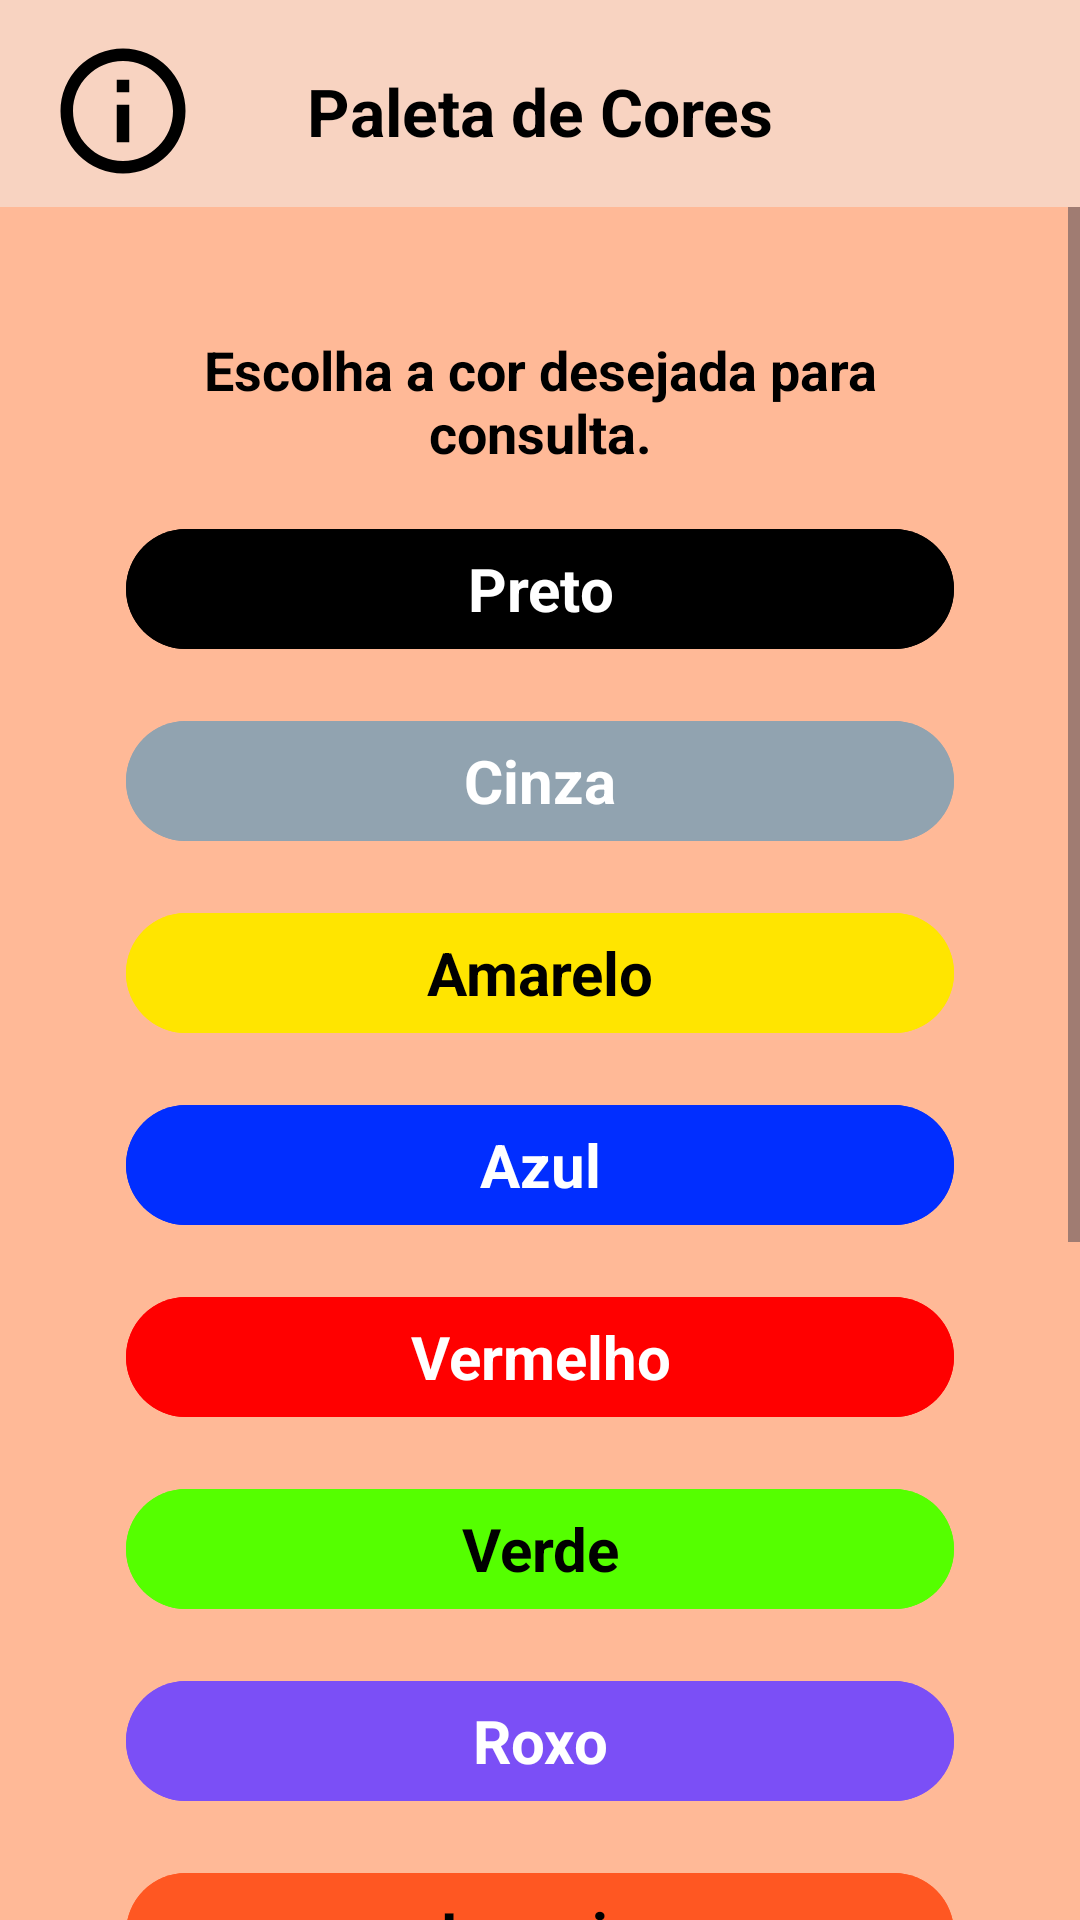

Named icons in this screenshot (1080 x 1920) and their centers, (x,y):
about: (123,111)
